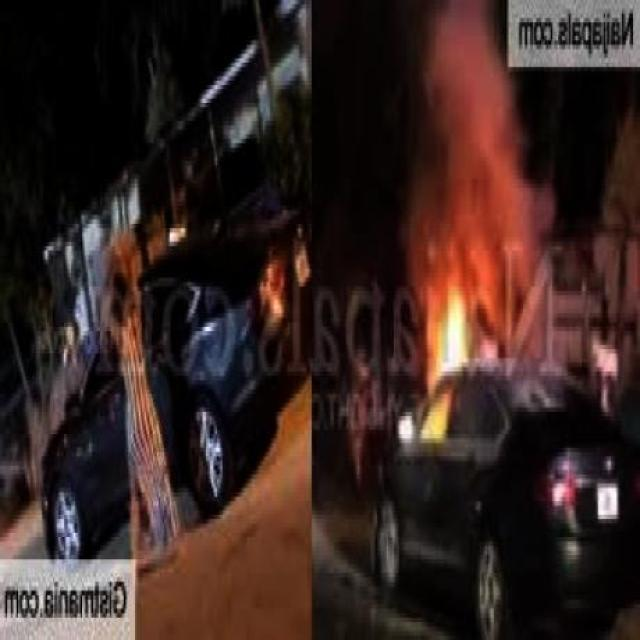Fire: (418, 293, 487, 443)
Smoke: (409, 16, 561, 292)
